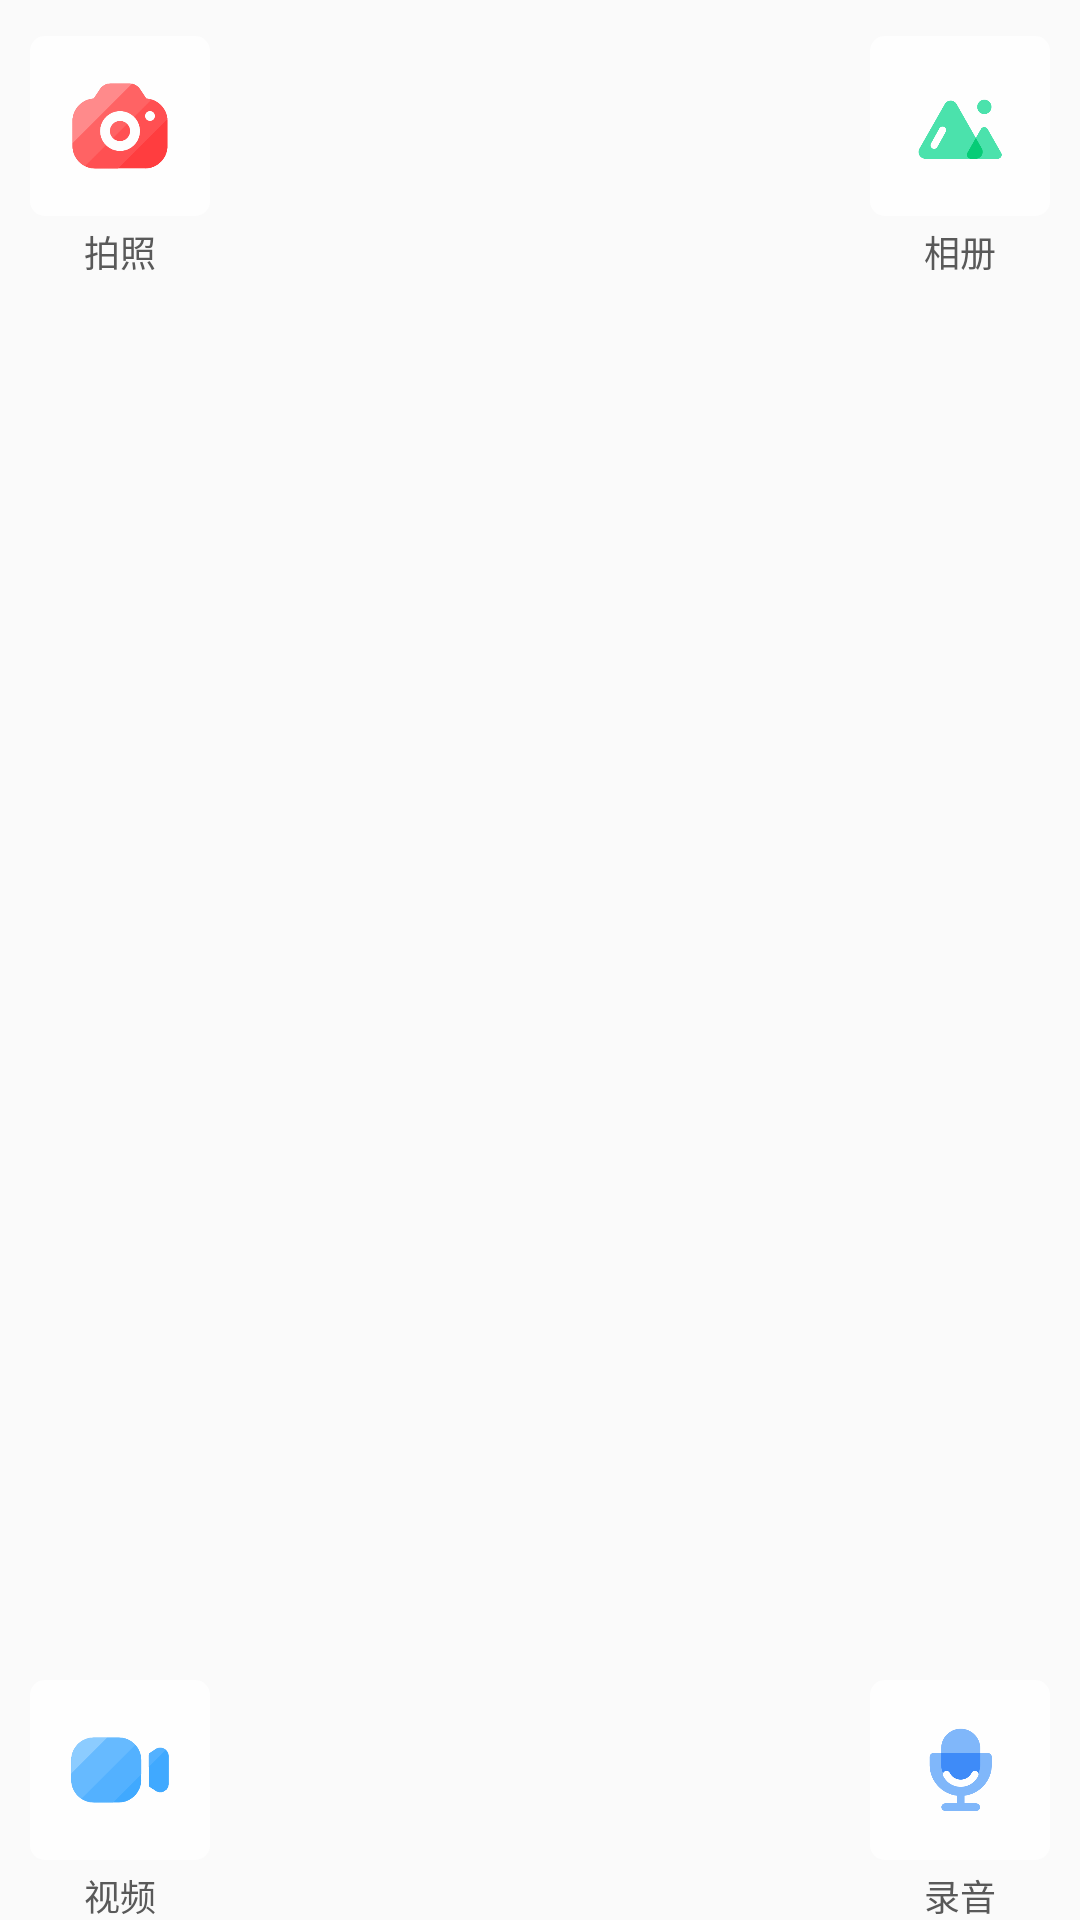

Named icons in this screenshot (1080px×1920px) and their centers, point (x, y):
show ac from: point (960, 129)
show ac little video: point (120, 1770)
show ac record: point (960, 1770)
show ac takephoto: point (120, 126)
